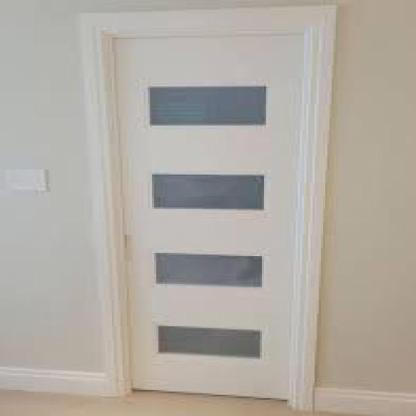door: (59, 3, 340, 414)
